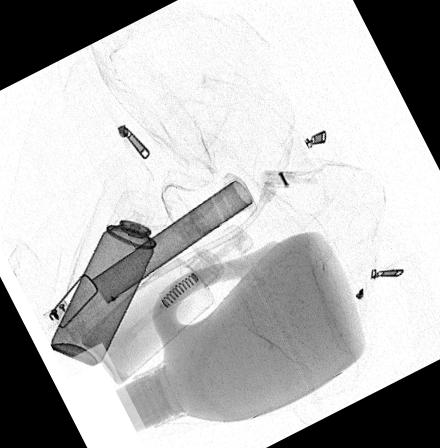Sprayer: (49, 191, 174, 366)
